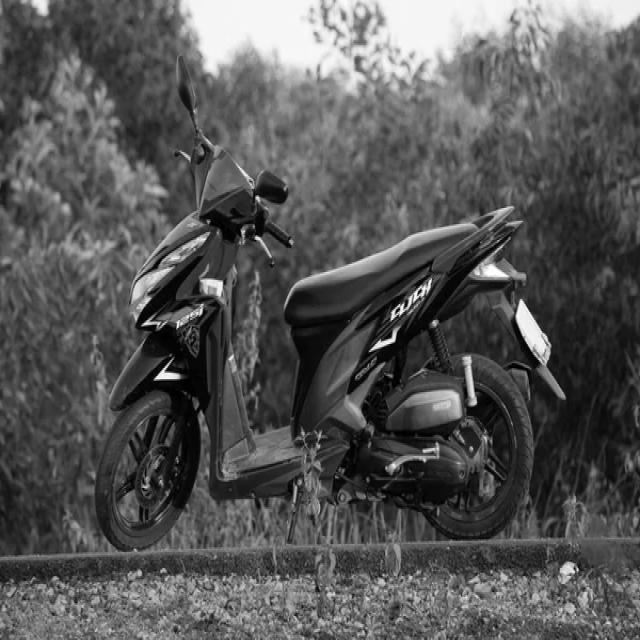Motorcycle: (95, 56, 565, 550)
